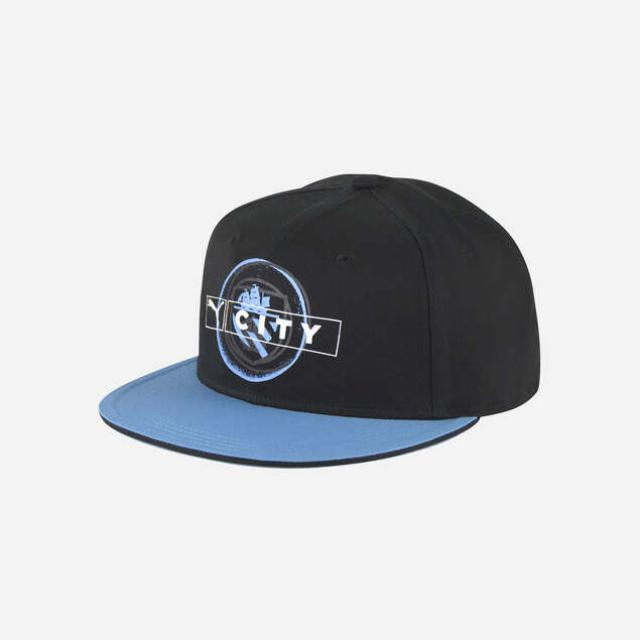Nonhelmet: (94, 164, 543, 476)
